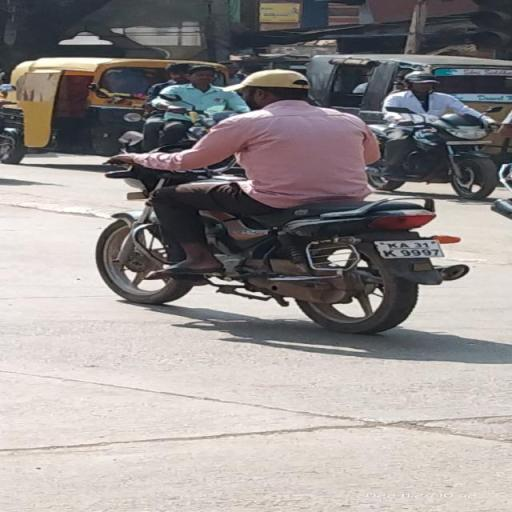bike: (92, 68, 466, 338)
numberplate: (372, 233, 446, 263)
withouthelmet: (244, 72, 304, 104)
